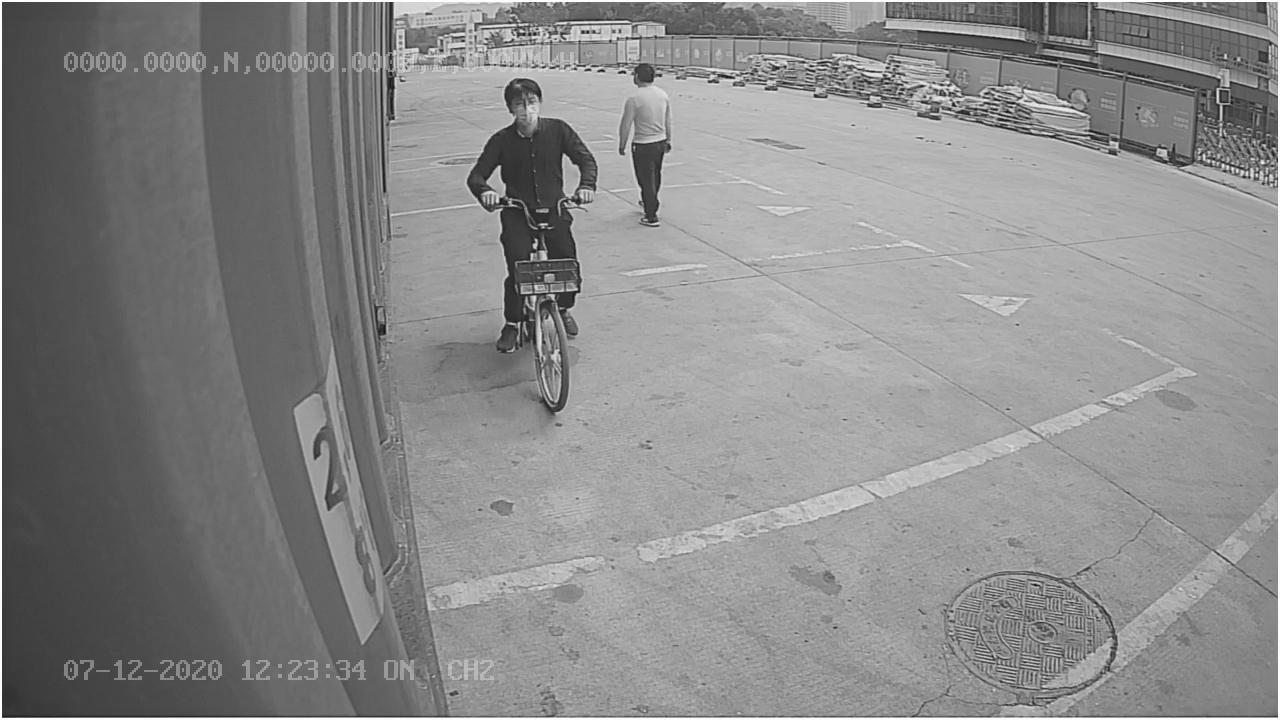person: (612, 58, 677, 232)
